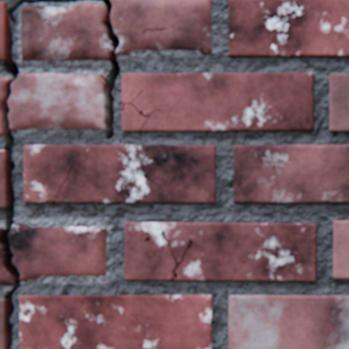brick: (125, 222, 316, 280), (123, 73, 313, 131), (25, 145, 215, 202), (21, 295, 212, 348), (229, 0, 348, 57), (234, 145, 348, 202), (229, 295, 348, 348), (329, 74, 348, 131), (333, 221, 348, 278), (0, 150, 10, 207), (0, 3, 9, 61), (0, 298, 8, 348)
broken_brick: (111, 0, 212, 55), (9, 74, 108, 130), (9, 223, 107, 279), (23, 4, 113, 60), (0, 79, 12, 135), (0, 243, 16, 284), (0, 228, 6, 236)
crack: (0, 0, 88, 348), (90, 0, 120, 139), (161, 230, 193, 279), (122, 102, 153, 118), (48, 185, 63, 202), (142, 28, 167, 33)
